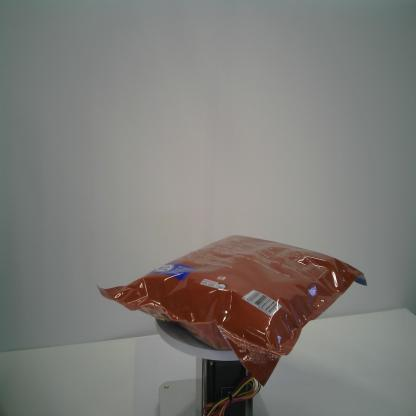Dried Food: (97, 235, 368, 387)
